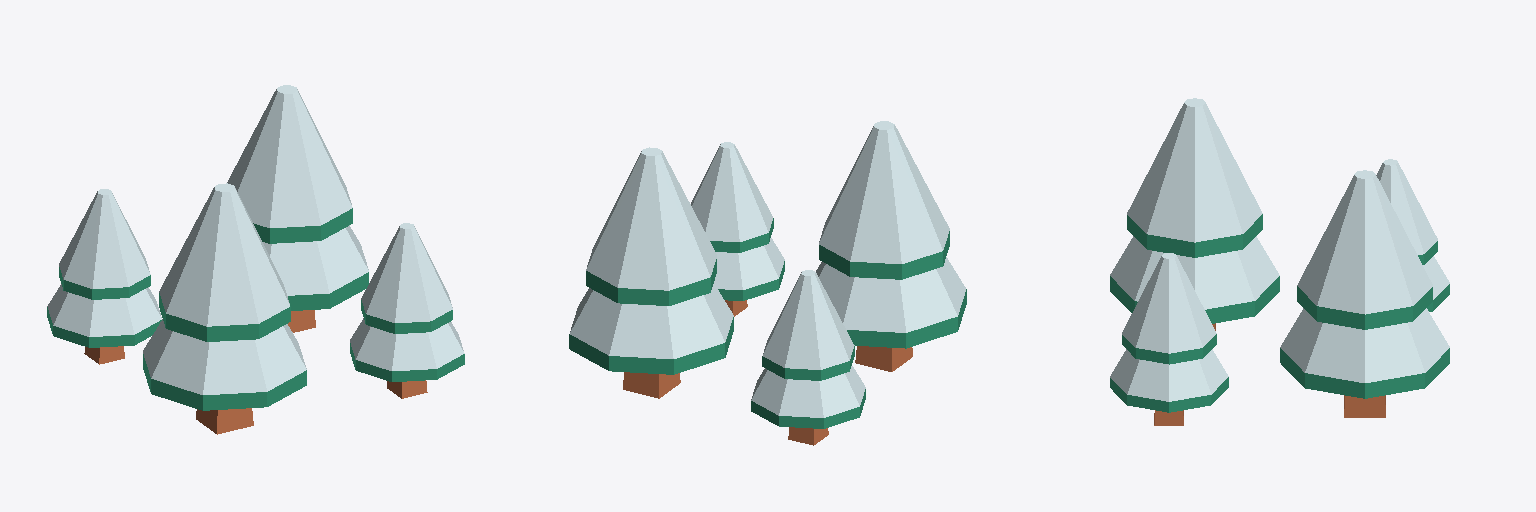
Rendered from snow_tile_treeQuad.obj.
The picture shows the model from 3 angles: view 1: azimuth 30°, elevation 25°; view 2: azimuth 150°, elevation 25°; view 3: azimuth 270°, elevation 25°; orthographic projection.
Parts seen in each view (by area): view 1: tree; view 2: tree; view 3: tree.
Boxes of the visible parts, x1,y1,x2,y2 form: tree: [47, 85, 464, 434]; tree: [569, 121, 966, 445]; tree: [1110, 98, 1449, 425].
Size of the model in its own units: 1 by 0.76 by 1.